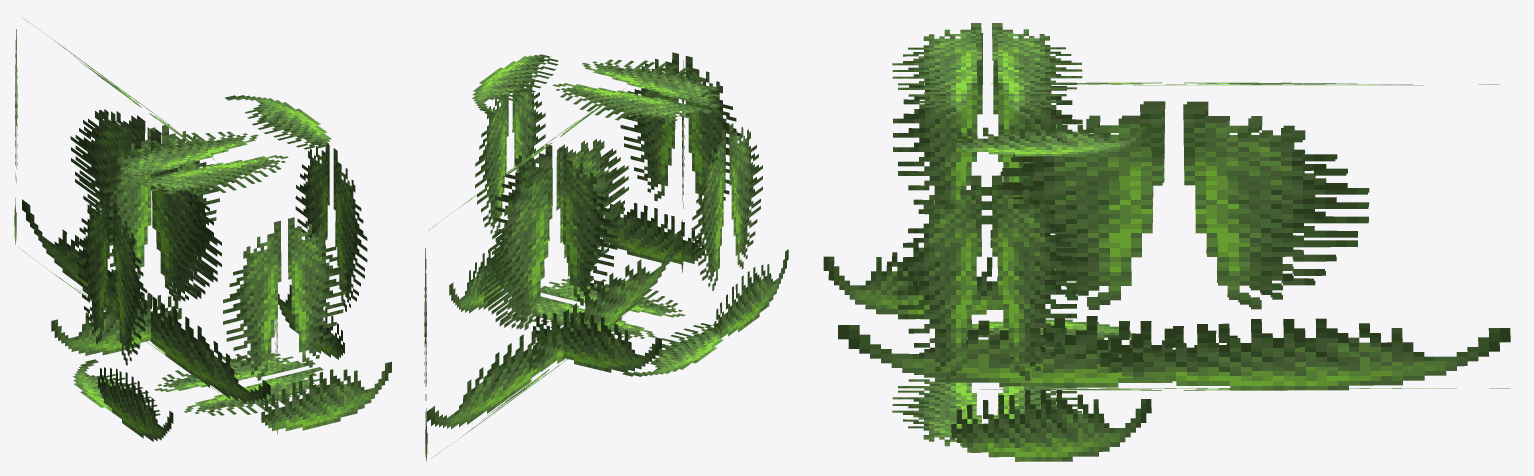
The model's file is palm_leaves.obj.
3 views of the same model, side by side, from view 1: azimuth 30°, elevation 25°; view 2: azimuth 150°, elevation 25°; view 3: azimuth 270°, elevation 25° (orthographic). The views are drawn at different scales.
Visible parts, largest first — view 1: Cube, Cube.001; view 2: Cube, Cube.001; view 3: Cube.001, Cube.
Boxes of the visible parts, box(x1,y1,x2,y2) form: Cube: box(51, 95, 391, 441); Cube.001: box(14, 18, 278, 434); Cube: box(449, 52, 788, 376); Cube.001: box(424, 60, 684, 461); Cube.001: box(838, 82, 1510, 390); Cube: box(823, 23, 1151, 461).
Bounding box in the file's own units: 1 × 1.01 × 2.08.
